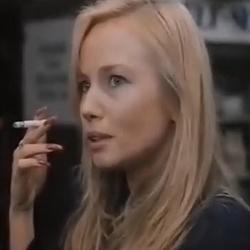smoking: (9, 104, 64, 208)
